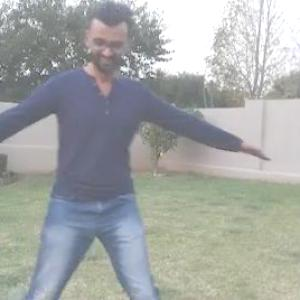land: (0, 25, 216, 299)
